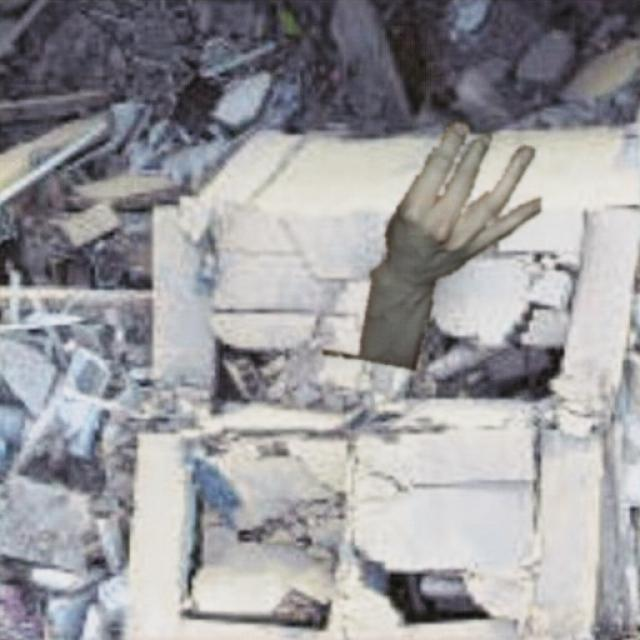Person in Rubble: (322, 122, 540, 368)
